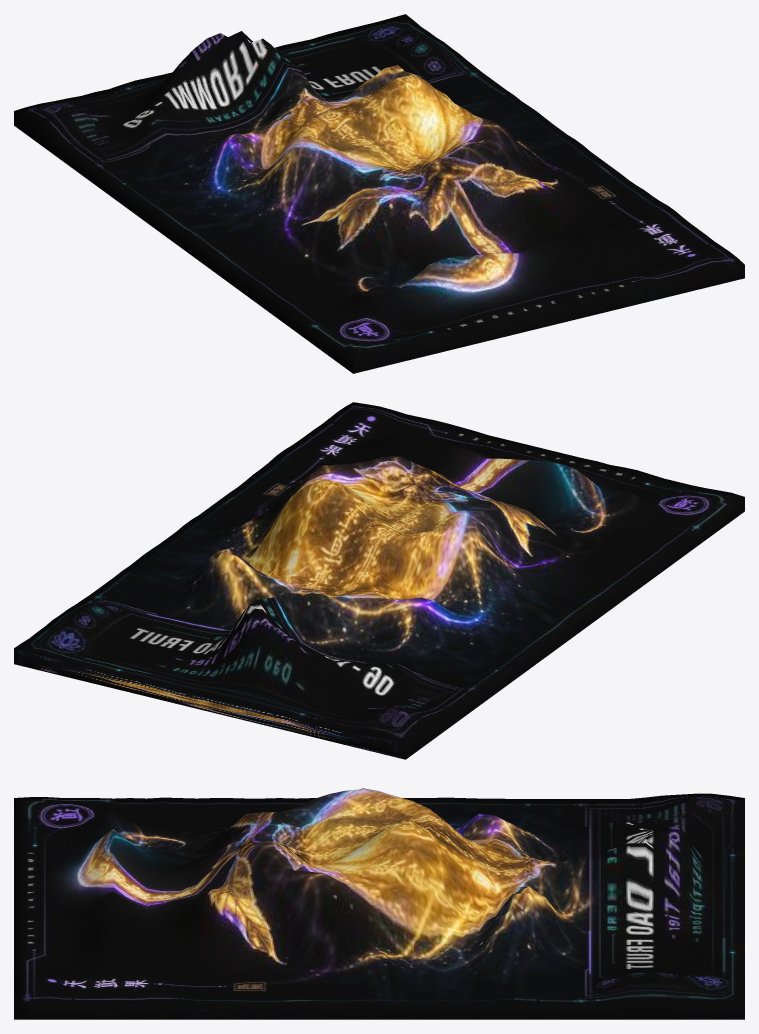
Rendered from HERB_06_Immortal_Dao_Fruit.glb.
The picture shows the model from 3 angles, top to bottom: view 1: azimuth 30°, elevation 25°; view 2: azimuth 150°, elevation 25°; view 3: azimuth 270°, elevation 25°; orthographic projection. The views are drawn at different scales.
Parts seen in each view (by area): view 1: HERB_06_Immortal_Dao_Fruit; view 2: HERB_06_Immortal_Dao_Fruit; view 3: HERB_06_Immortal_Dao_Fruit.
Boxes of the visible parts, bbox=[...] form: HERB_06_Immortal_Dao_Fruit: bbox=[14, 14, 744, 373]; HERB_06_Immortal_Dao_Fruit: bbox=[14, 402, 744, 759]; HERB_06_Immortal_Dao_Fruit: bbox=[14, 788, 744, 1019].
Size of the model in its own units: 2 by 0.51 by 3.
Materials: 1 (1 with a texture image).
